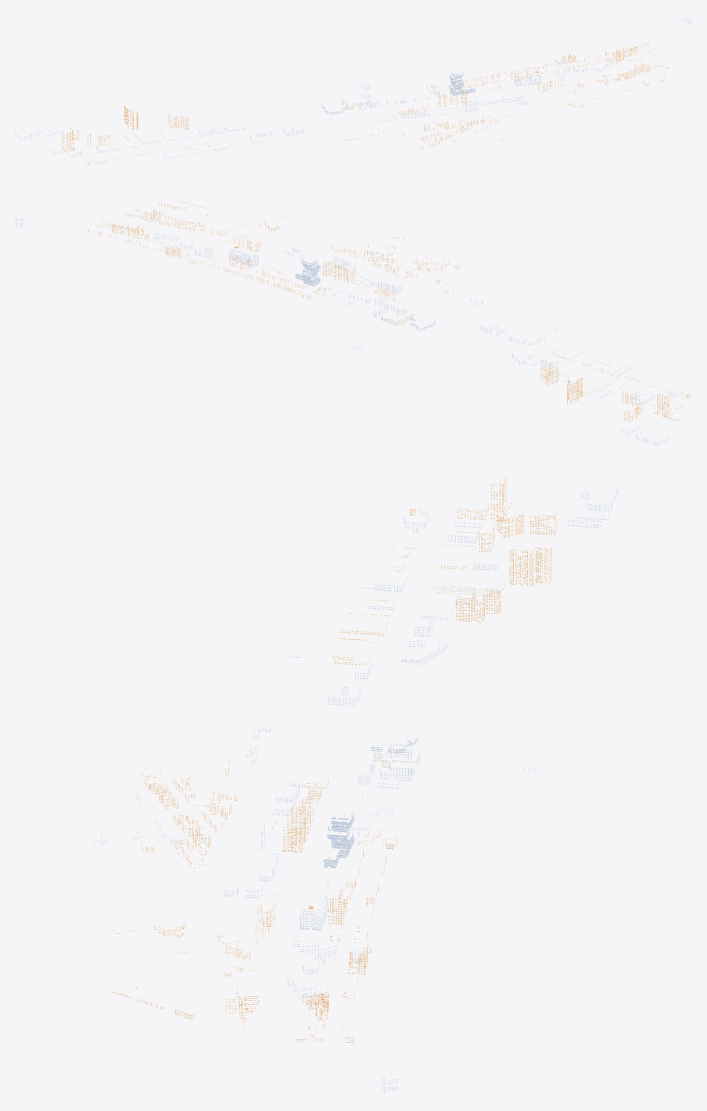
The model's file is buildings-charles-river-lights.glb.
3 renders of one model, top to bottom at view 1: azimuth 30°, elevation 25°; view 2: azimuth 150°, elevation 25°; view 3: azimuth 270°, elevation 25°, orthographic. The views are drawn at different scales.
Visible parts, largest first — view 1: buildings-charles-river-lights; view 2: buildings-charles-river-lights; view 3: buildings-charles-river-lights.
Boxes of the visible parts, left/top/right/bottom form: buildings-charles-river-lights: left=15, top=17, right=692, bottom=166; buildings-charles-river-lights: left=14, top=196, right=690, bottom=445; buildings-charles-river-lights: left=92, top=475, right=618, bottom=1093.
Size of the model in its own units: 2701 by 88.36 by 996.
